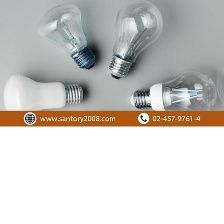light_bulb: (104, 0, 167, 83), (127, 65, 221, 119), (34, 0, 99, 74), (0, 71, 91, 122)
